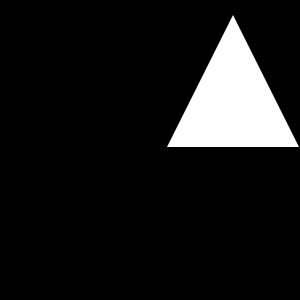triangle: (167, 15, 299, 147)
